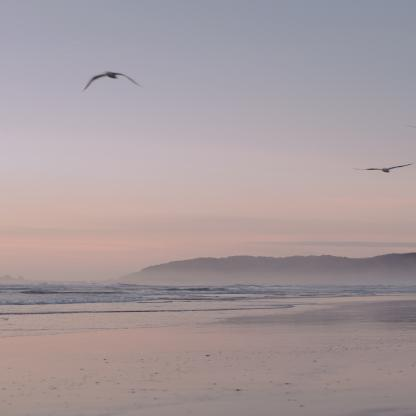bird: (82, 70, 144, 94), (353, 162, 415, 174)
